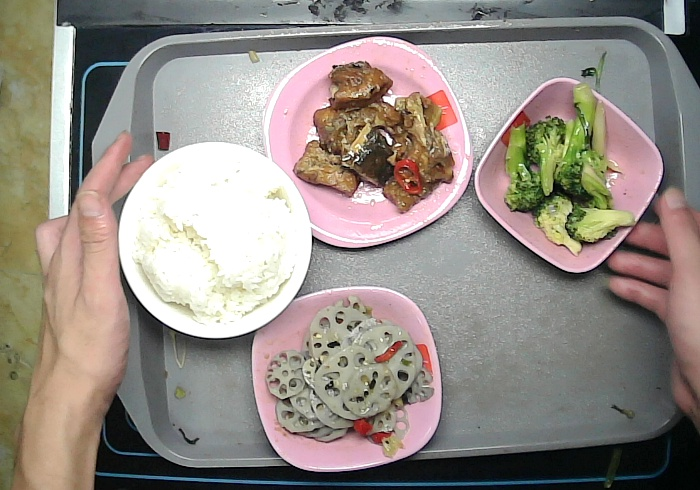SHKJ-Fan_Wan: (120, 139, 317, 335)
SHKJ-Fen_Se_Cai_Die: (238, 287, 450, 472)
SHKJ-Fen_Se_Si_Fang_Cai_Die: (262, 35, 476, 251)
SHKJ-Fen_Se_Xiao_Fang_Die: (471, 76, 664, 277)
